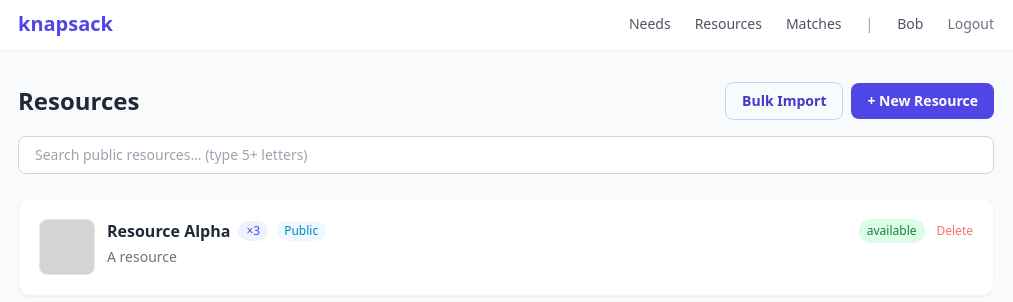
Test: ResourcesPage › marks owned search result with (mine)
Type "alpha" into the field with placeholder "Search public resources… (type 5+ letters)" at [506, 155], box left=18, top=136, right=994, bottom=174
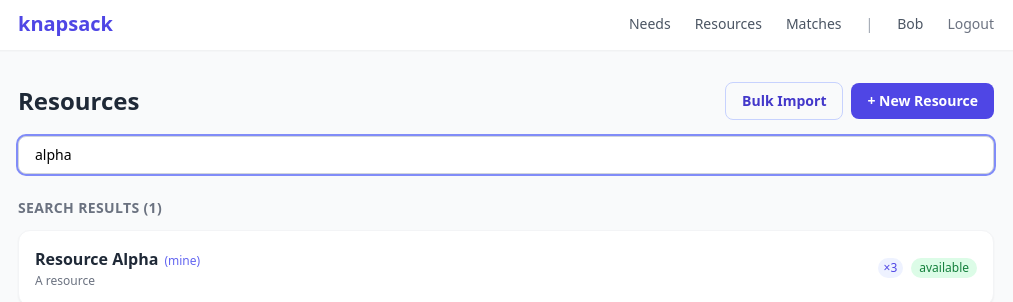
Check: the text "(mine)" is shown, box left=164, top=252, right=200, bottom=269
